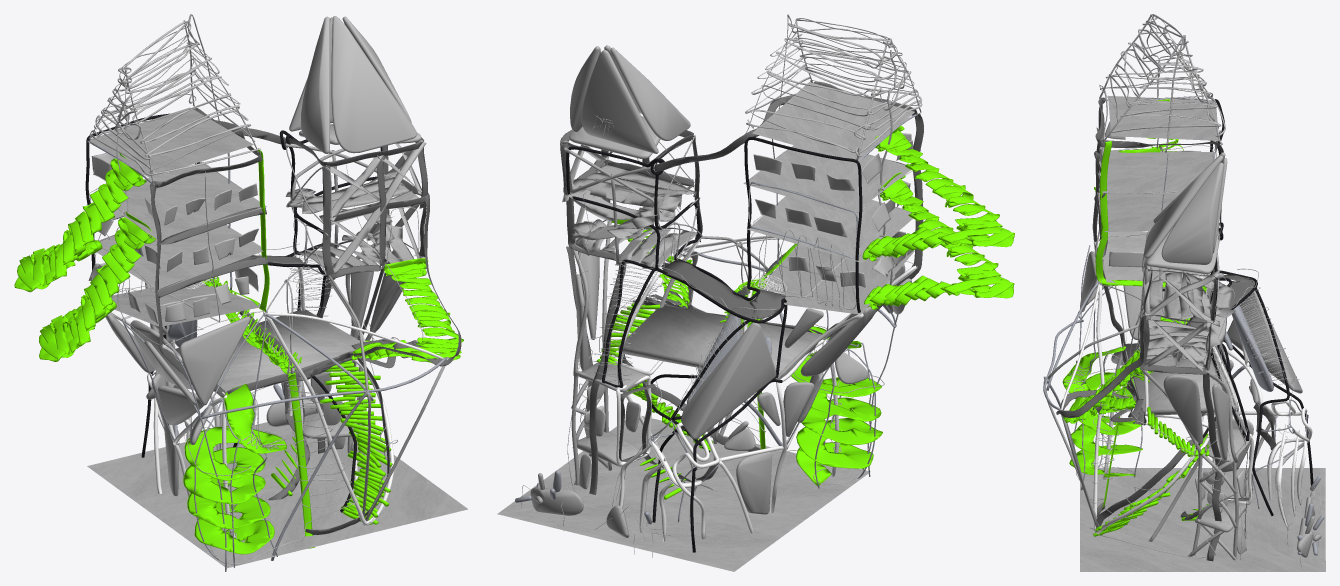
The picture shows the model from 3 angles, left to right: view 1: azimuth 30°, elevation 25°; view 2: azimuth 150°, elevation 25°; view 3: azimuth 270°, elevation 25°; orthographic projection. The views are drawn at different scales.
Visible parts, largest first — view 1: BEYAZFUL; view 2: BEYAZFUL; view 3: BEYAZFUL.
Boxes of the visible parts, bbox=[...] form: BEYAZFUL: bbox=[14, 14, 467, 571]; BEYAZFUL: bbox=[497, 14, 1014, 571]; BEYAZFUL: bbox=[1043, 14, 1325, 571].
Bounding box in the file's own units: 53.78 × 64 × 35.7.
Materials: 9 (1 with a texture image).
